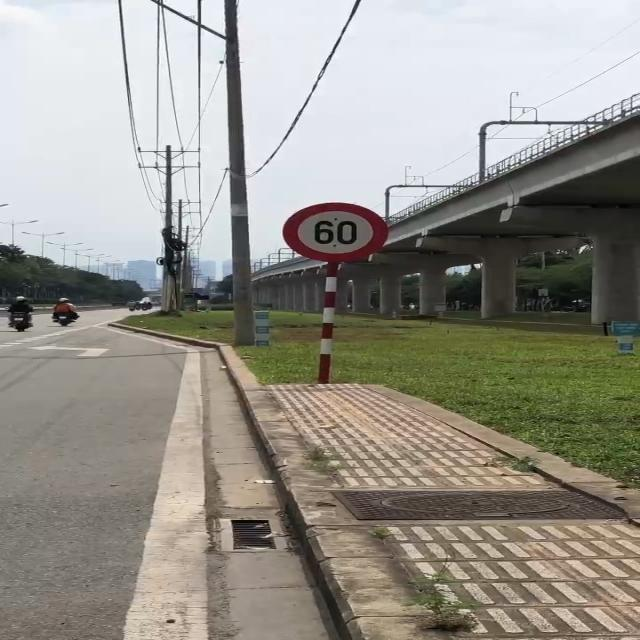Bien bao toc do toi da cho phep: (280, 198, 400, 267)
